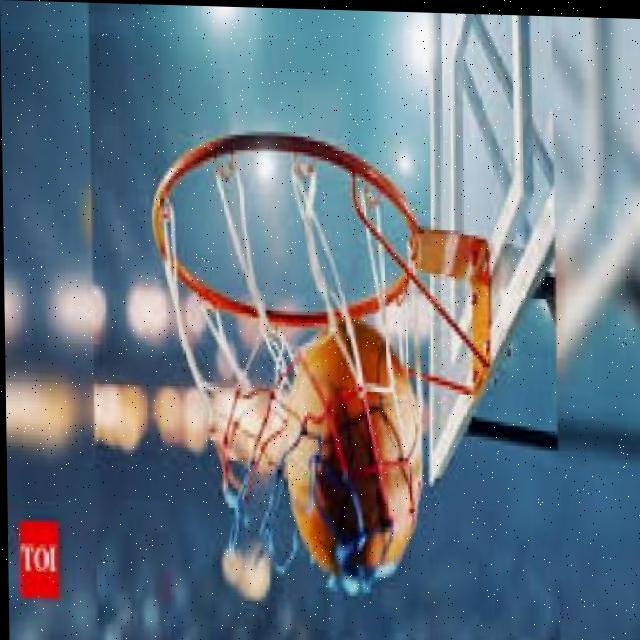basketball: (283, 322, 418, 578)
hoop: (149, 124, 427, 605), (150, 124, 426, 607)
